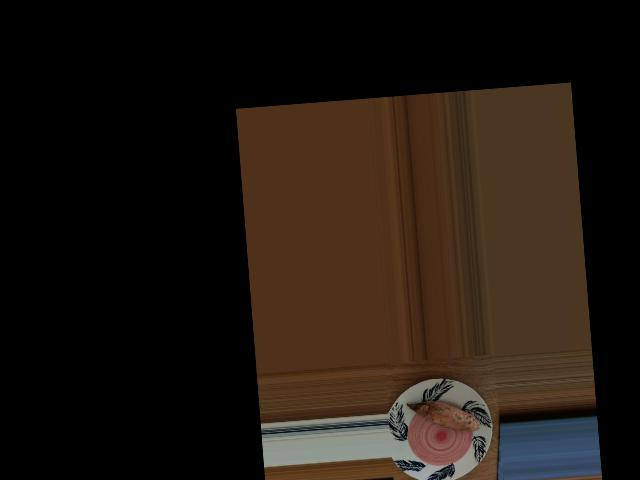sweet_potato: (414, 397, 476, 437)
